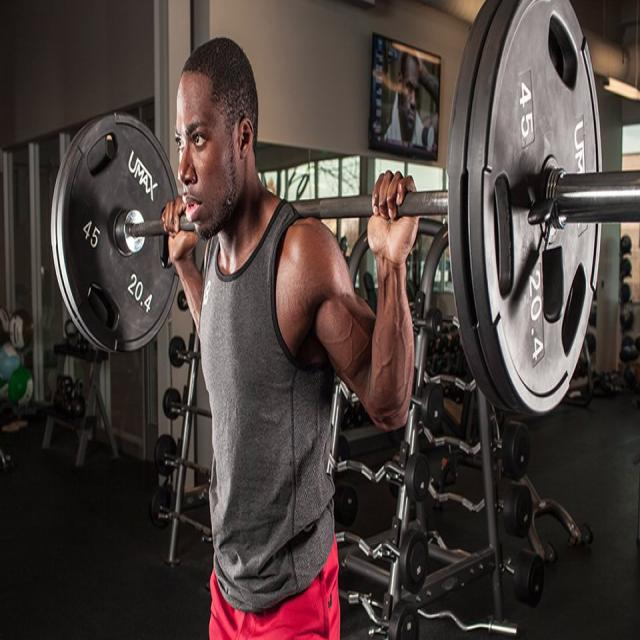adult: (160, 36, 420, 640)
